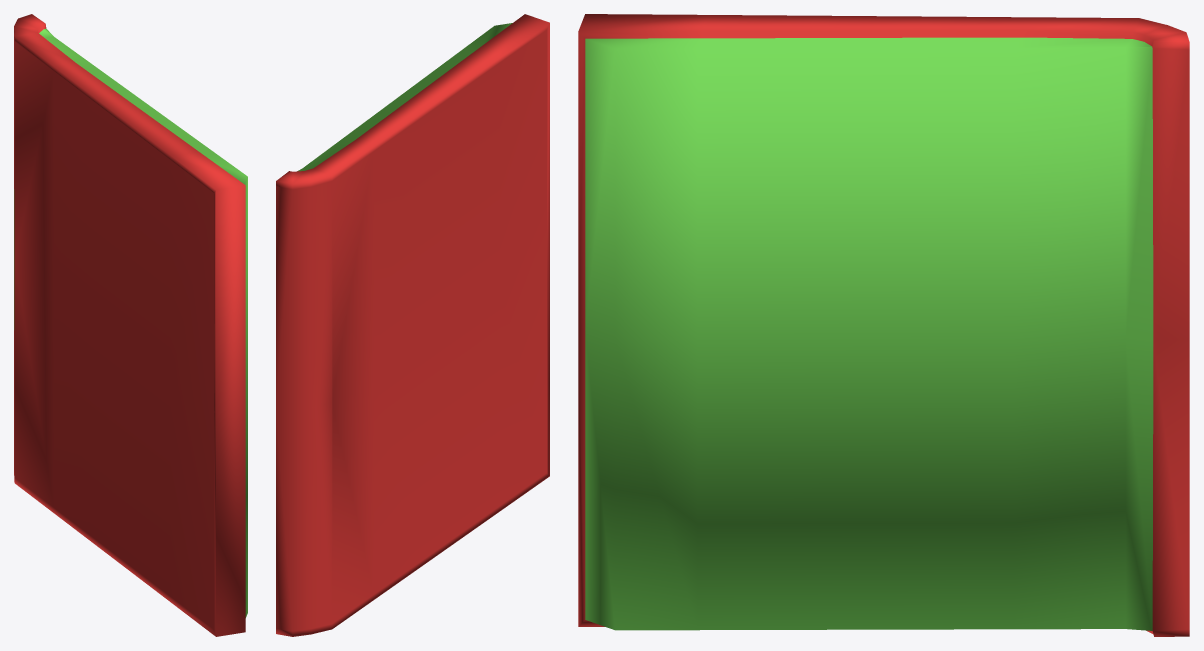
File: BookLeft.fbx
The picture shows the model from 3 angles, left to right: view 1: azimuth 30°, elevation 25°; view 2: azimuth 150°, elevation 25°; view 3: azimuth 270°, elevation 25°; orthographic projection. The views are drawn at different scales.
Parts seen in each view (by area): view 1: BookLeft; view 2: BookLeft; view 3: BookLeft.
Part boxes in pixels (left/top/right/bottom): BookLeft: left=14, top=14, right=247, bottom=636; BookLeft: left=276, top=14, right=549, bottom=636; BookLeft: left=578, top=14, right=1189, bottom=636.
Size of the model in its own units: 2.62 by 25.89 by 24.09.
